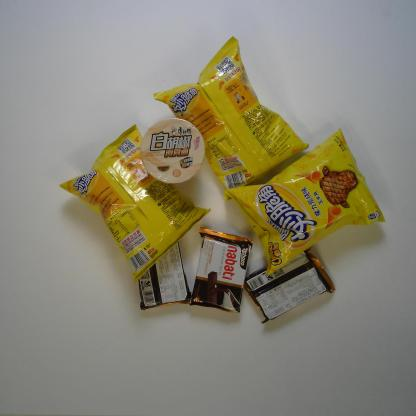Dessert: (242, 246, 336, 325), (188, 226, 254, 315), (137, 241, 192, 312)
Instant Noodles: (139, 117, 206, 186)
Puffed Food: (152, 34, 310, 200), (58, 122, 213, 285), (221, 128, 386, 276)
